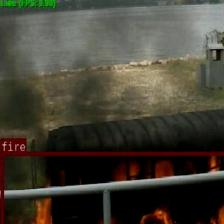fire: (0, 151, 224, 224)
